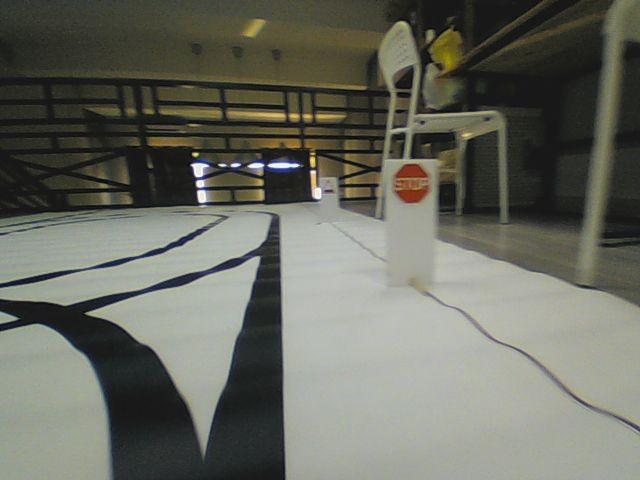Stop: (392, 162, 431, 204)
